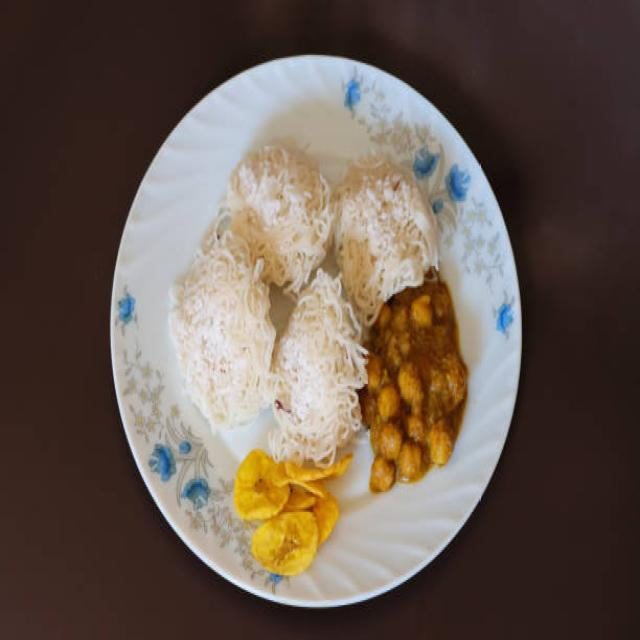BANANA CHIPS: (233, 455, 352, 576)
IDIYAPPAM: (170, 144, 437, 451)
SUNDAL: (359, 270, 468, 498)
